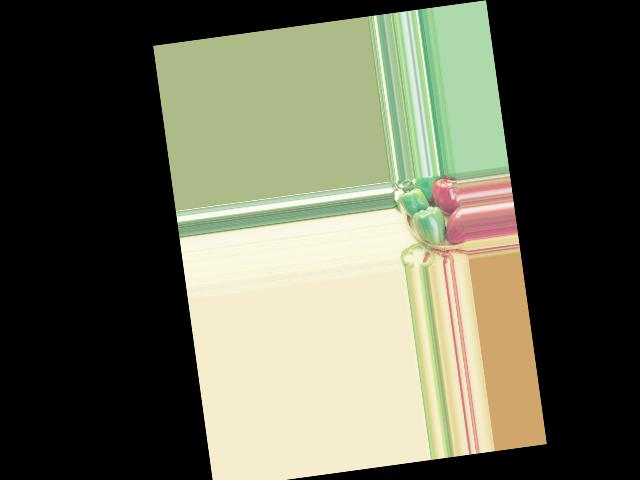bell_pepper: (444, 205, 465, 245)
